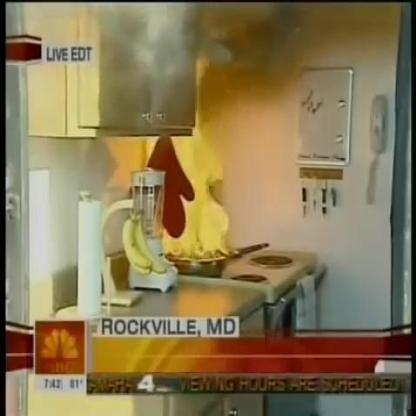fire: (136, 59, 234, 261)
